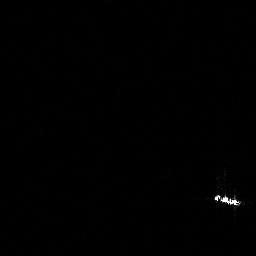ship: (210, 190, 244, 209)
